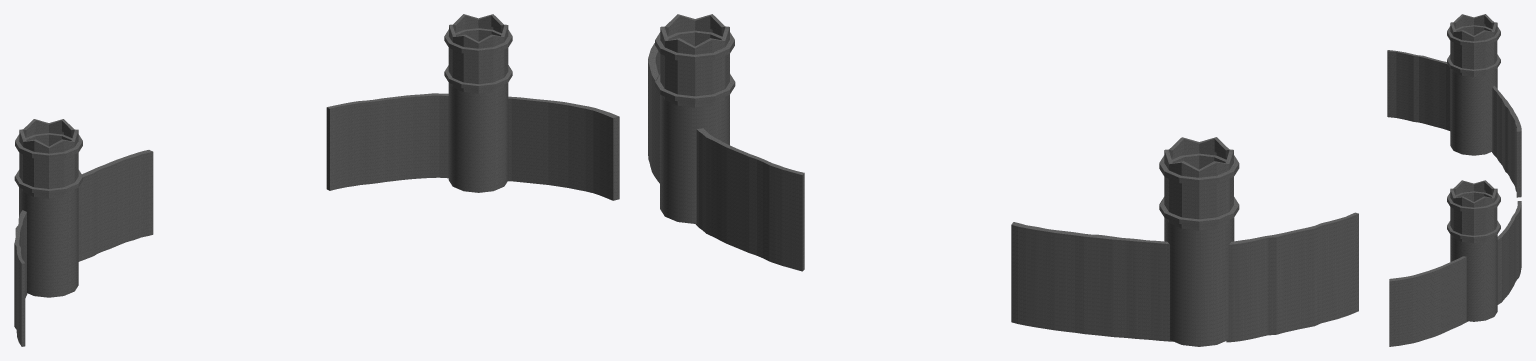
Rendered from Castle Entrance Side Tower.obj.
3 views of the same model, side by side, from view 1: azimuth 30°, elevation 25°; view 2: azimuth 150°, elevation 25°; view 3: azimuth 270°, elevation 25° (orthographic). The views are drawn at different scales.
Parts seen in each view (by area): view 1: Castle side tower, PolyShape (2), Castle side tower (2), PolyShape (1), PolyShape (4), PolyShape (3); view 2: PolyShape (4), Castle side tower (2), PolyShape (3), Castle side tower, PolyShape (2), PolyShape (1); view 3: Castle side tower (2), Castle side tower, PolyShape (1), PolyShape (3), PolyShape (4), PolyShape (2).
Boxes of the visible parts, <box> form: Castle side tower: <box>444,14,512,192</box>; PolyShape (2): <box>326,93,448,190</box>; Castle side tower (2): <box>14,119,82,297</box>; PolyShape (1): <box>508,96,619,200</box>; PolyShape (4): <box>78,150,153,261</box>; PolyShape (3): <box>14,210,27,346</box>; PolyShape (4): <box>1011,222,1173,341</box>; Castle side tower (2): <box>1159,137,1239,346</box>; PolyShape (3): <box>1226,212,1358,342</box>; Castle side tower: <box>655,14,735,223</box>; PolyShape (2): <box>695,128,804,271</box>; PolyShape (1): <box>648,43,660,183</box>; Castle side tower (2): <box>1447,14,1500,155</box>; Castle side tower: <box>1447,180,1500,321</box>; PolyShape (1): <box>1389,256,1467,346</box>; PolyShape (3): <box>1387,50,1450,130</box>; PolyShape (4): <box>1492,85,1521,197</box>; PolyShape (2): <box>1497,201,1521,304</box>.
Size of the model in its own units: 186 by 46.67 by 45.55.
1 material, 1 textured.
